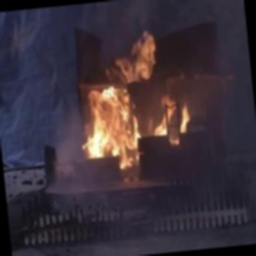fire: (74, 30, 181, 174)
